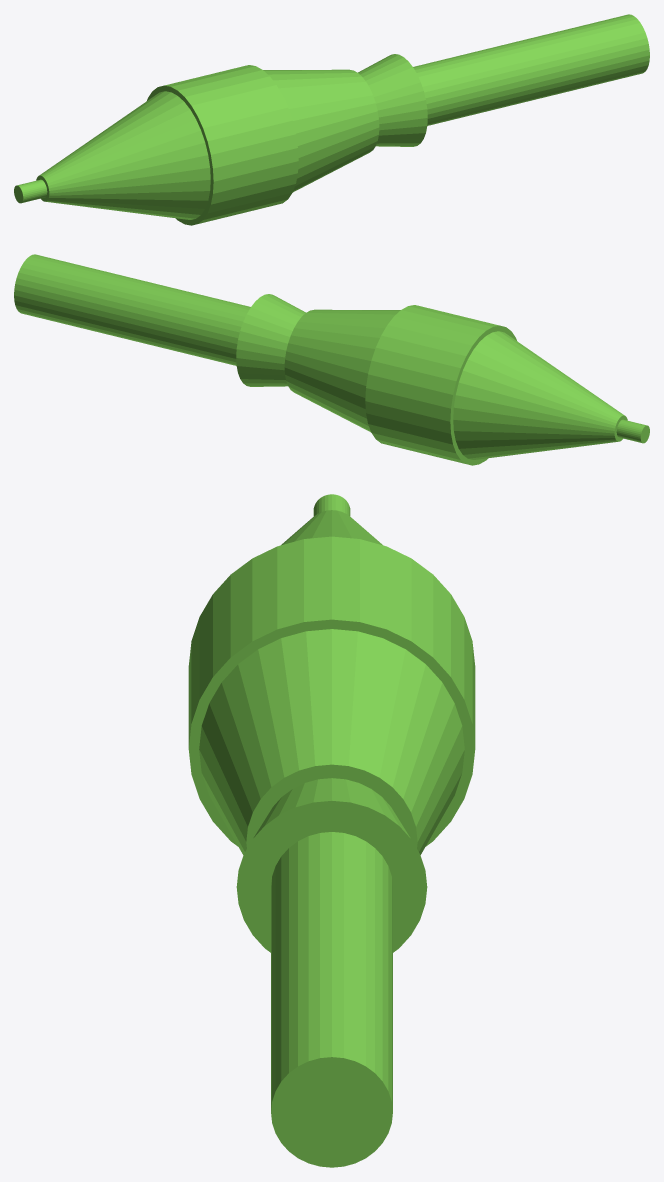
Rendered from RPG7-Grenade.fbx.
The picture shows the model from 3 angles, top to bottom: view 1: azimuth 30°, elevation 25°; view 2: azimuth 150°, elevation 25°; view 3: azimuth 270°, elevation 25°; orthographic projection. The views are drawn at different scales.
Parts seen in each view (by area): view 1: Cylinder.004, Cylinder.003, Cylinder.002, Cylinder.005, Cylinder.000, Cylinder.001; view 2: Cylinder.004, Cylinder.003, Cylinder.002, Cylinder.005, Cylinder.000, Cylinder.001; view 3: Cylinder.005, Cylinder.003, Cylinder.002, Cylinder.000, Cylinder.004.
Boxes of the visible parts, left/top/right/bottom form: Cylinder.004: left=36, top=91, right=210, bottom=219; Cylinder.003: left=413, top=14, right=649, bottom=125; Cylinder.002: left=147, top=65, right=298, bottom=225; Cylinder.005: left=263, top=69, right=379, bottom=192; Cylinder.000: left=358, top=54, right=427, bottom=146; Cylinder.001: left=14, top=179, right=47, bottom=203; Cylinder.004: left=453, top=331, right=627, bottom=459; Cylinder.003: left=14, top=254, right=250, bottom=365; Cylinder.002: left=365, top=305, right=516, bottom=465; Cylinder.005: left=284, top=309, right=400, bottom=432; Cylinder.000: left=236, top=294, right=305, bottom=386; Cylinder.001: left=616, top=419, right=649, bottom=443; Cylinder.005: left=199, top=629, right=464, bottom=854; Cylinder.003: left=271, top=832, right=392, bottom=1167; Cylinder.002: left=188, top=536, right=475, bottom=846; Cylinder.000: left=236, top=778, right=427, bottom=952; Cylinder.004: left=281, top=510, right=382, bottom=545.
Bounding box in the file's own units: 1068 × 215 × 215.
